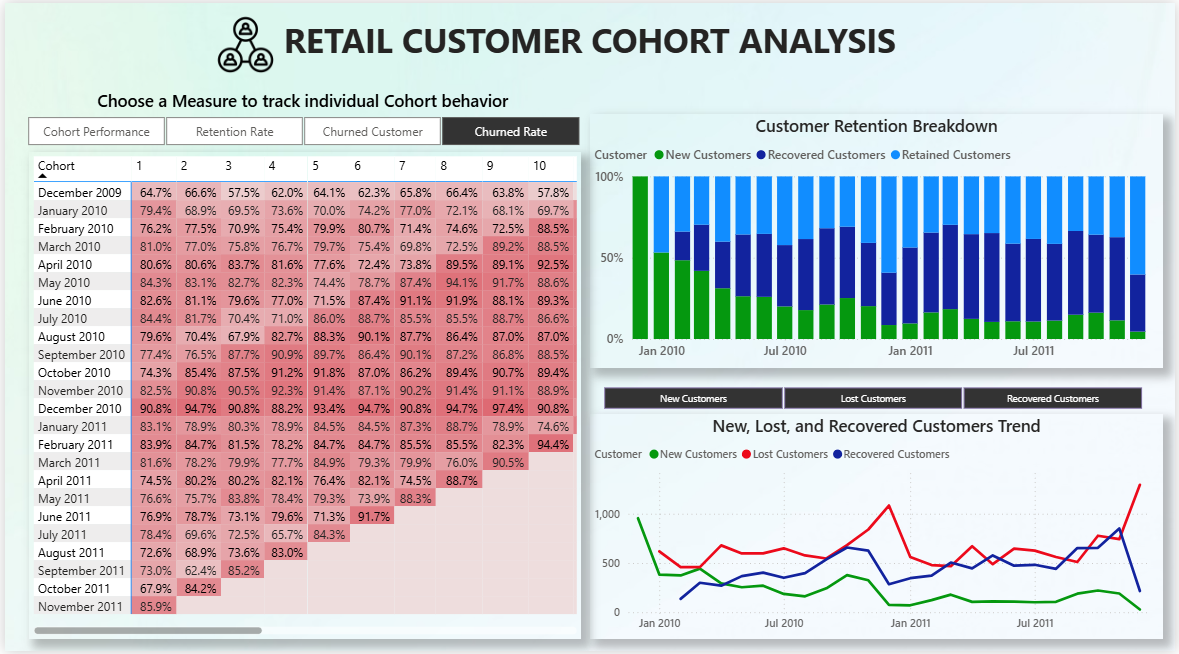

The page's visual inventory and layout, read from the dashboard file:
{"tool":"powerbi","page":{"name":"Cohort","canvas":[1300,720],"ordinal":0},"visuals":[{"type":"pivotTable","fields":{"Values":["_Measures.Churned Rate"],"Rows":["DimDate.Start of Month"],"Columns":["FactSales.Month Since First Transaction"]},"box":[26.7,165,613.3,541.7],"z":0},{"type":"slicer","title":"Choose a Measure to track individual Cohort behavior","fields":{"Values":["Parameter.Parameter"]},"box":[0,95.4,661.7,70],"z":1000},{"type":"hundredPercentStackedColumnChart","title":"Customer Retention Breakdown","fields":{"Category":["DimDate.Start of Month"],"Y":["_Measures.New Customers","_Measures.Recovered Customers","_Measures.Retained Customers"]},"box":[650,123.3,636.7,281.7],"z":2000},{"type":"lineChart","title":"New, Lost, and Recovered Customers Trend","fields":{"Y":["_Measures.New Customers","_Measures.Lost Customers","_Measures.Recovered Customers"],"Category":["DimDate.Start of Month"]},"box":[650,456.7,636.7,250],"z":3000},{"type":"slicer","fields":{"Values":["Parameter 2.Parameter 2"]},"box":[639.4,419.9,647.4,36.6],"z":4000},{"type":"textbox","box":[0,9.5,1299.5,73.2],"z":5000},{"type":"image","box":[229,6.4,77.9,79.5],"z":6000}]}

Visuals, with their boxes in screenshot pixels (x1, y1, x2, y2), scaled from the page's 1300x720 canvas onto the 1179x654 screenshot:
pivotTable - _Measures.Churned Rate x DimDate.Start of Month: pyautogui.locateOnScreen(24, 150, 580, 642)
"Choose a Measure to track individual Cohort behavior" slicer: pyautogui.locateOnScreen(0, 87, 600, 150)
"Customer Retention Breakdown" hundredPercentStackedColumnChart: pyautogui.locateOnScreen(590, 112, 1167, 368)
"New, Lost, and Recovered Customers Trend" lineChart: pyautogui.locateOnScreen(590, 415, 1167, 642)
slicer - Parameter 2.Parameter 2: pyautogui.locateOnScreen(580, 381, 1167, 415)
textbox: pyautogui.locateOnScreen(0, 9, 1178, 75)
image: pyautogui.locateOnScreen(208, 6, 278, 78)
